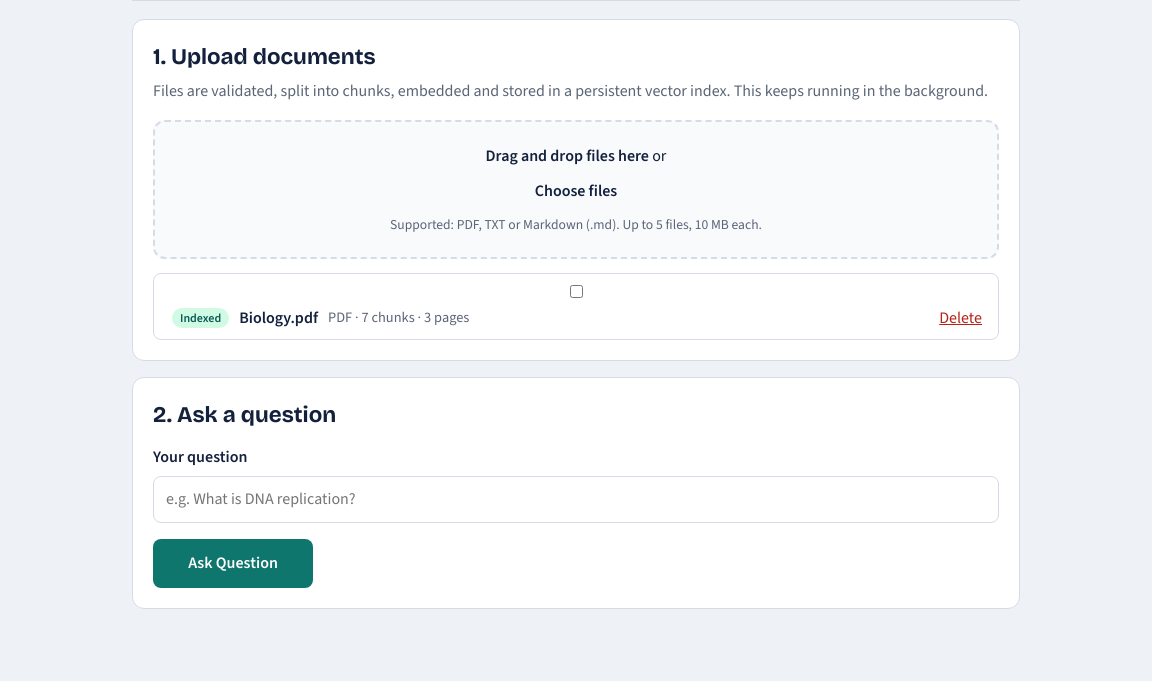
Scenario: Document Q&A (advanced) › blocks an empty question
(page scrolled)
Check: the text "Biology.pdf" is shown, box [239,306,318,330]
Click the button "Ask Question". click: (233, 563)
box: [153,539,313,588]
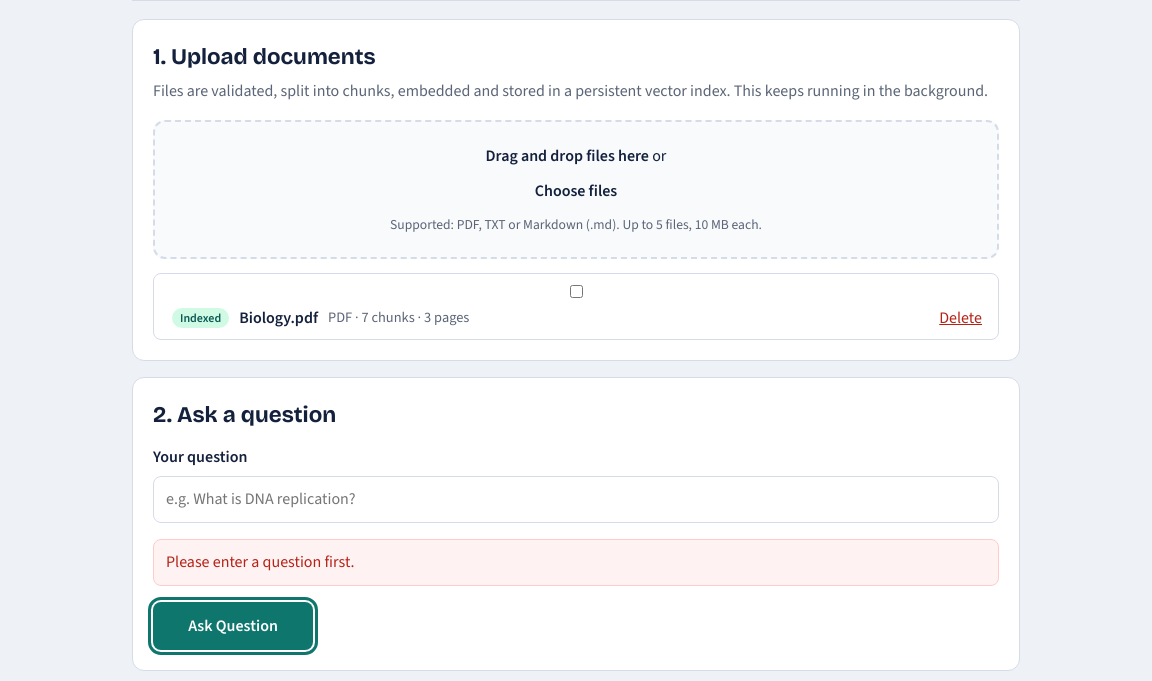
Check: the message reads "Please enter a question first.", box [166,551,354,572]
